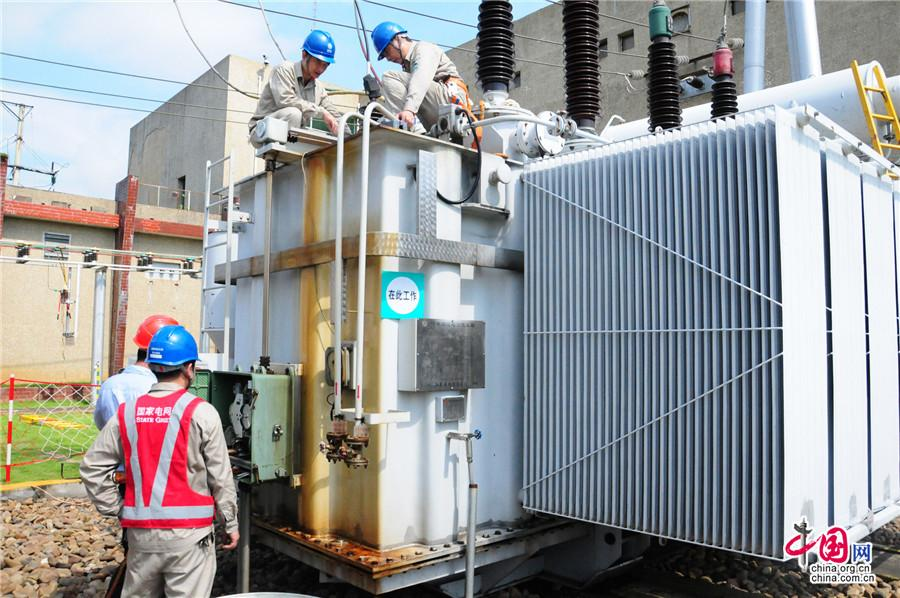oil: (268, 479, 353, 545)
